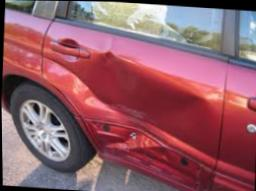Door: (41, 18, 227, 191)
Fender: (3, 7, 50, 73)
